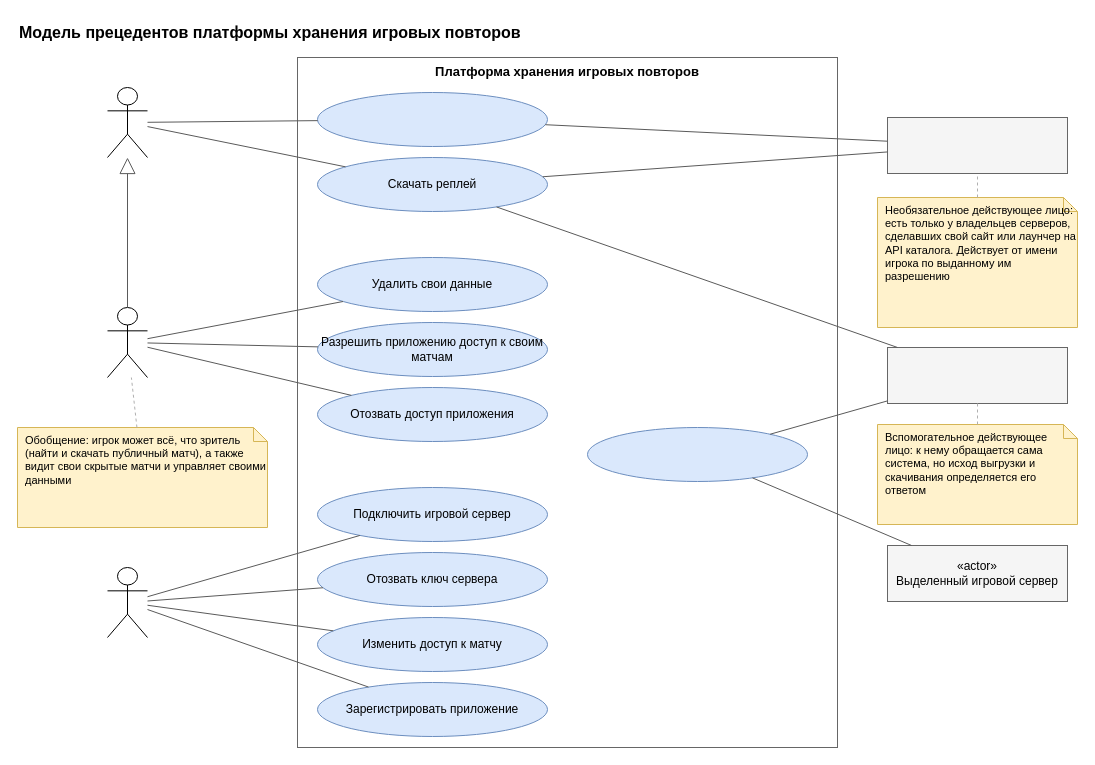
Some shapes in this 1095 by 765 pixel diagram are drawn without their labels. The shapes that lost their labels are listed below. From the top down, each one's centre as x and y in pixels, then its label:
At (x=127, y=122): "Зритель".
At (x=432, y=119): "Найти матч".
At (x=977, y=145): "«actor» Приложение владельца серверов".
At (x=127, y=342): "Игрок".
At (x=977, y=375): "«actor» Облачное хранилище".
At (x=697, y=454): "Выгрузить запись матча".
At (x=127, y=602): "Владелец серверов".
